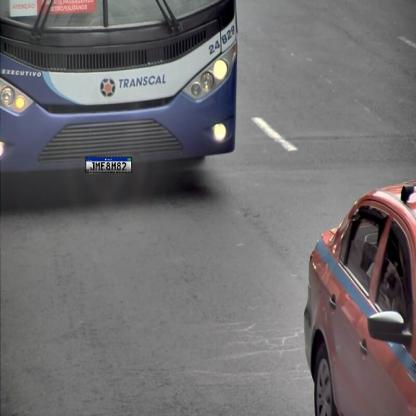PlacaM: (85, 156, 132, 172)
